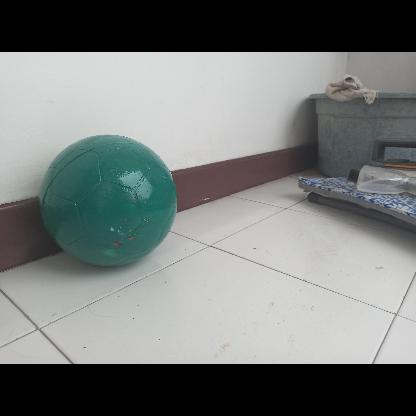green_ball: (40, 131, 176, 267)
